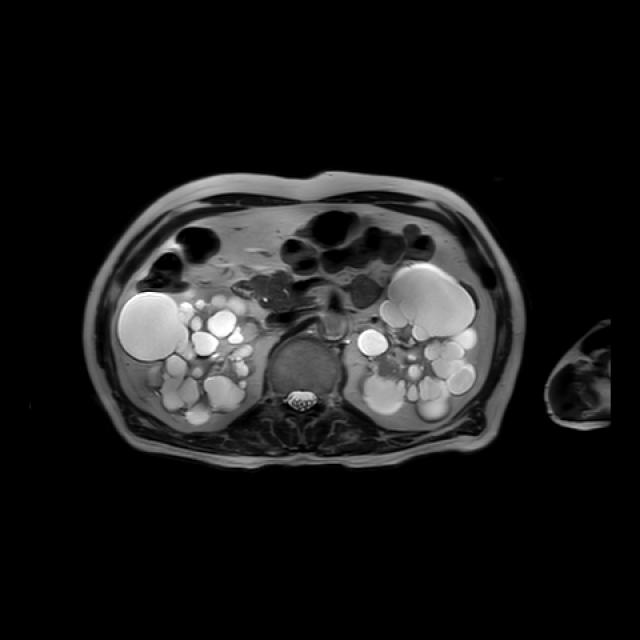sag: (117, 291, 261, 423)
sol: (358, 262, 479, 422)
